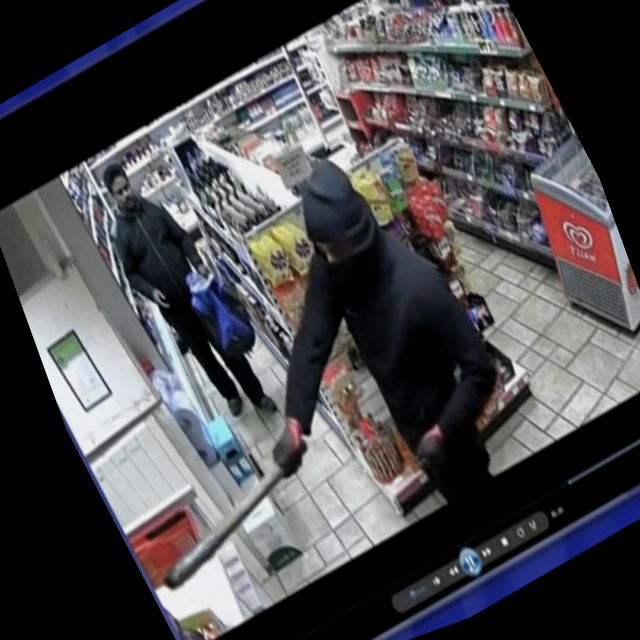gun: (113, 413, 360, 616)
